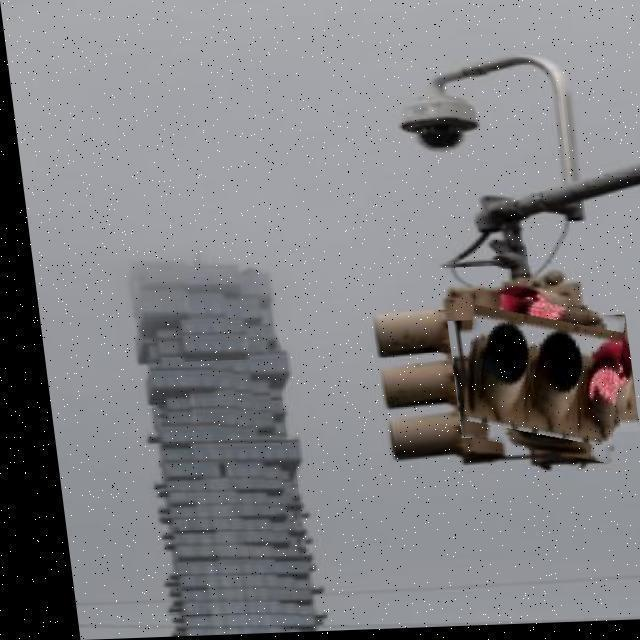Lampu Merah: (443, 296, 622, 464)
